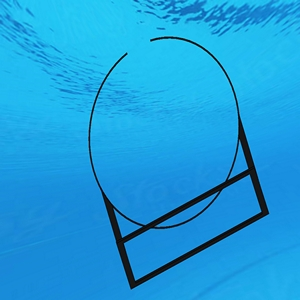circle: (87, 34, 271, 291)
